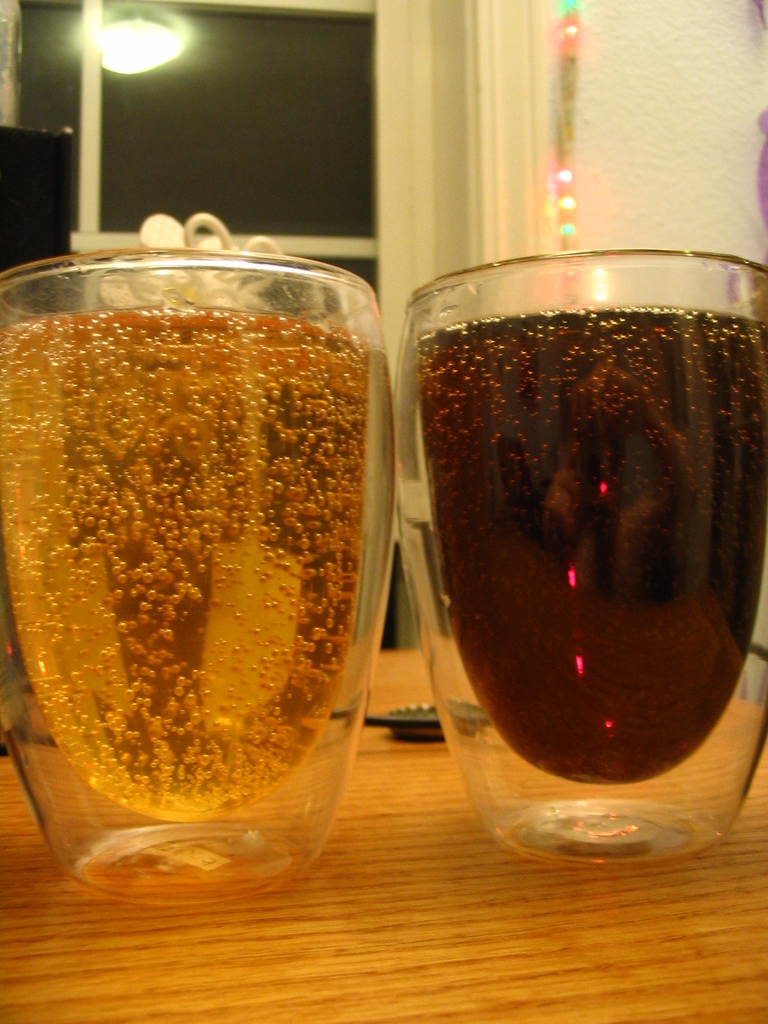Beer: (394, 229, 762, 855), (0, 266, 344, 881)
